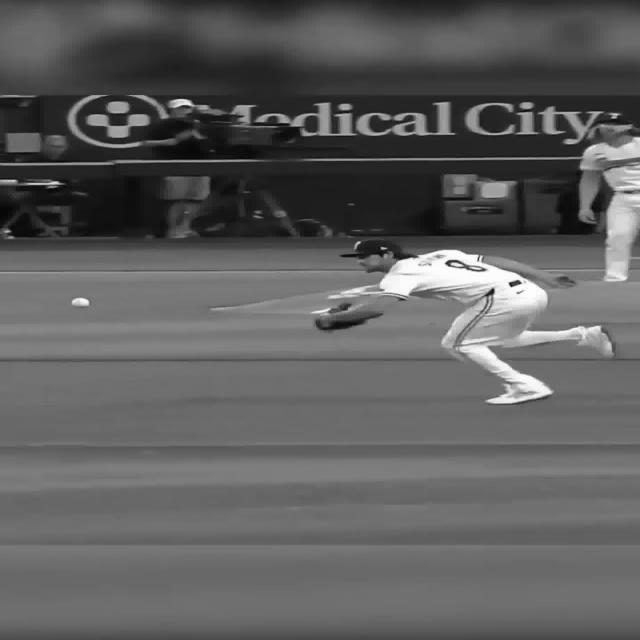baseball: (70, 298, 90, 308)
baseball_glove: (311, 302, 383, 331)
shoe: (574, 324, 615, 358), (484, 384, 553, 404)
